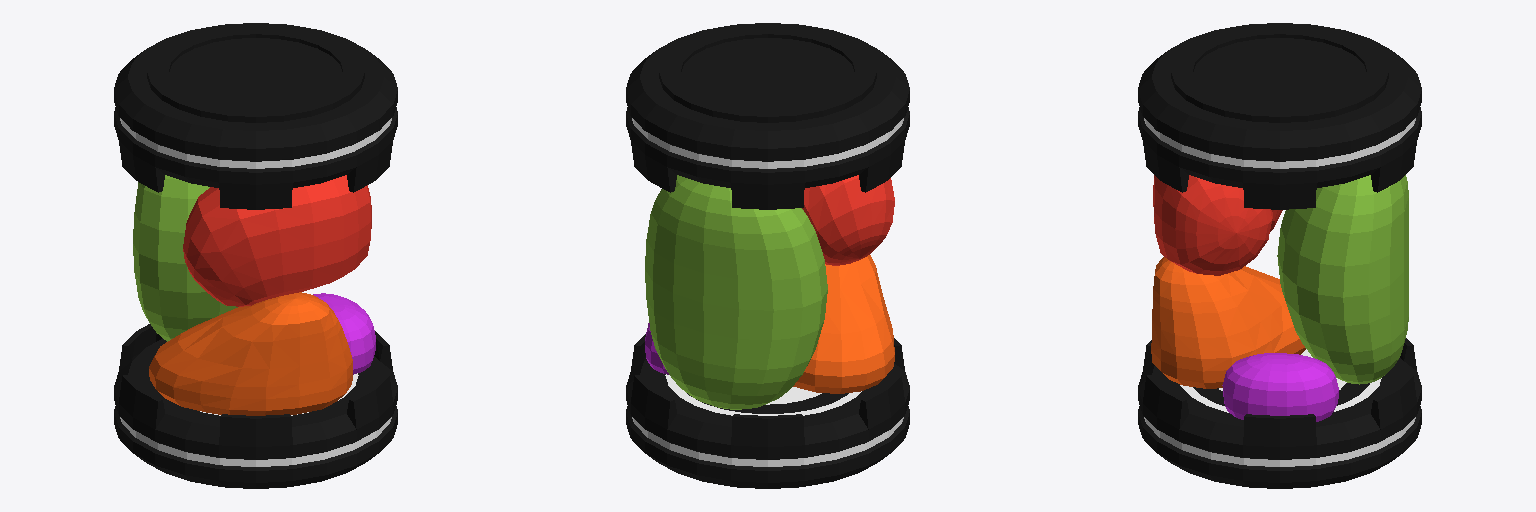
The picture shows the model from 3 angles: view 1: azimuth 30°, elevation 25°; view 2: azimuth 150°, elevation 25°; view 3: azimuth 270°, elevation 25°; orthographic projection.
Visible parts, largest first — view 1: NoxiousSlimeMesh_Noxious_Slimes; view 2: NoxiousSlimeMesh_Noxious_Slimes; view 3: NoxiousSlimeMesh_Noxious_Slimes.
Part boxes in pixels (x1,y1,x2,y2): NoxiousSlimeMesh_Noxious_Slimes: (114, 23, 397, 488); NoxiousSlimeMesh_Noxious_Slimes: (626, 23, 909, 488); NoxiousSlimeMesh_Noxious_Slimes: (1138, 23, 1421, 488).
Bounding box in the file's own units: 1.08 × 1.55 × 1.08.
Materials: 1 (1 with a texture image).